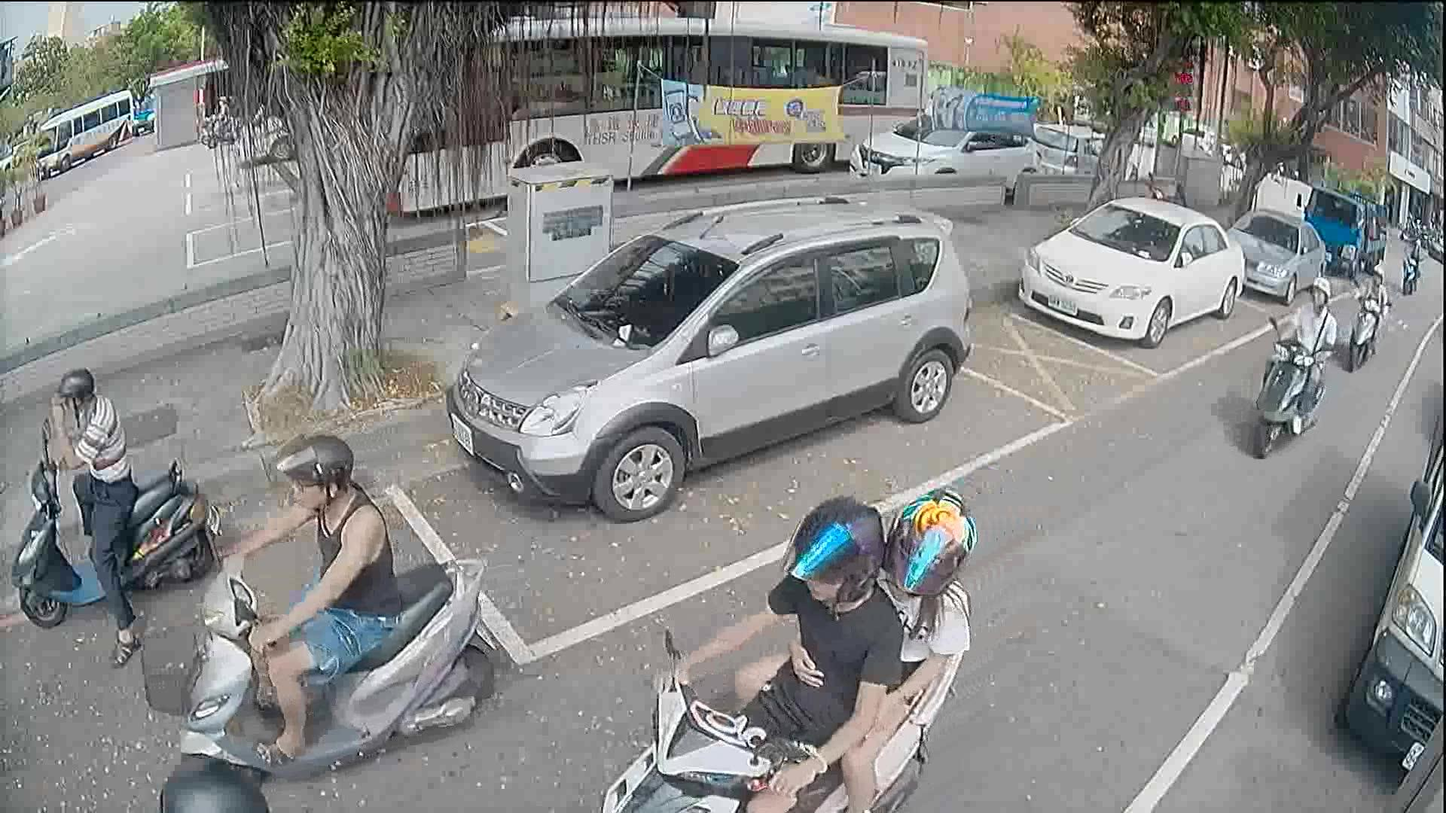person: (651, 492, 914, 811), (752, 479, 965, 812), (212, 424, 404, 775), (29, 377, 151, 652), (1267, 273, 1337, 435), (157, 750, 276, 812), (1354, 262, 1390, 333), (208, 94, 230, 134), (1404, 234, 1421, 274)
